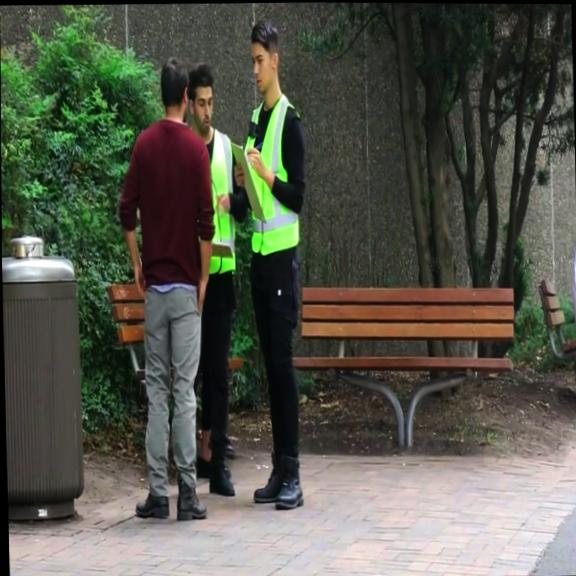safety_vest: (246, 91, 302, 255), (204, 127, 239, 277)
